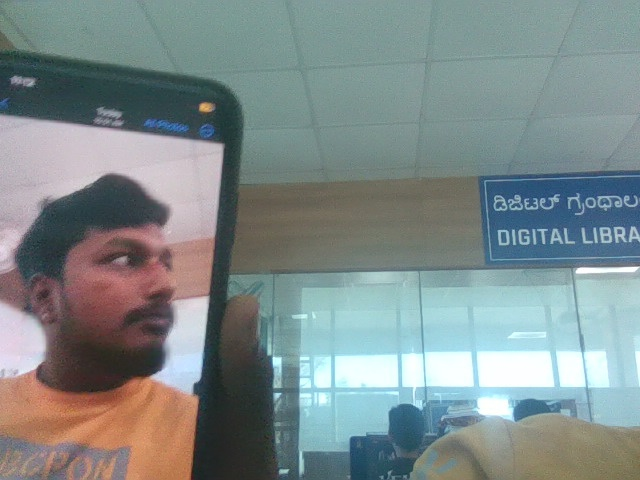fake: (46, 144, 211, 378)
